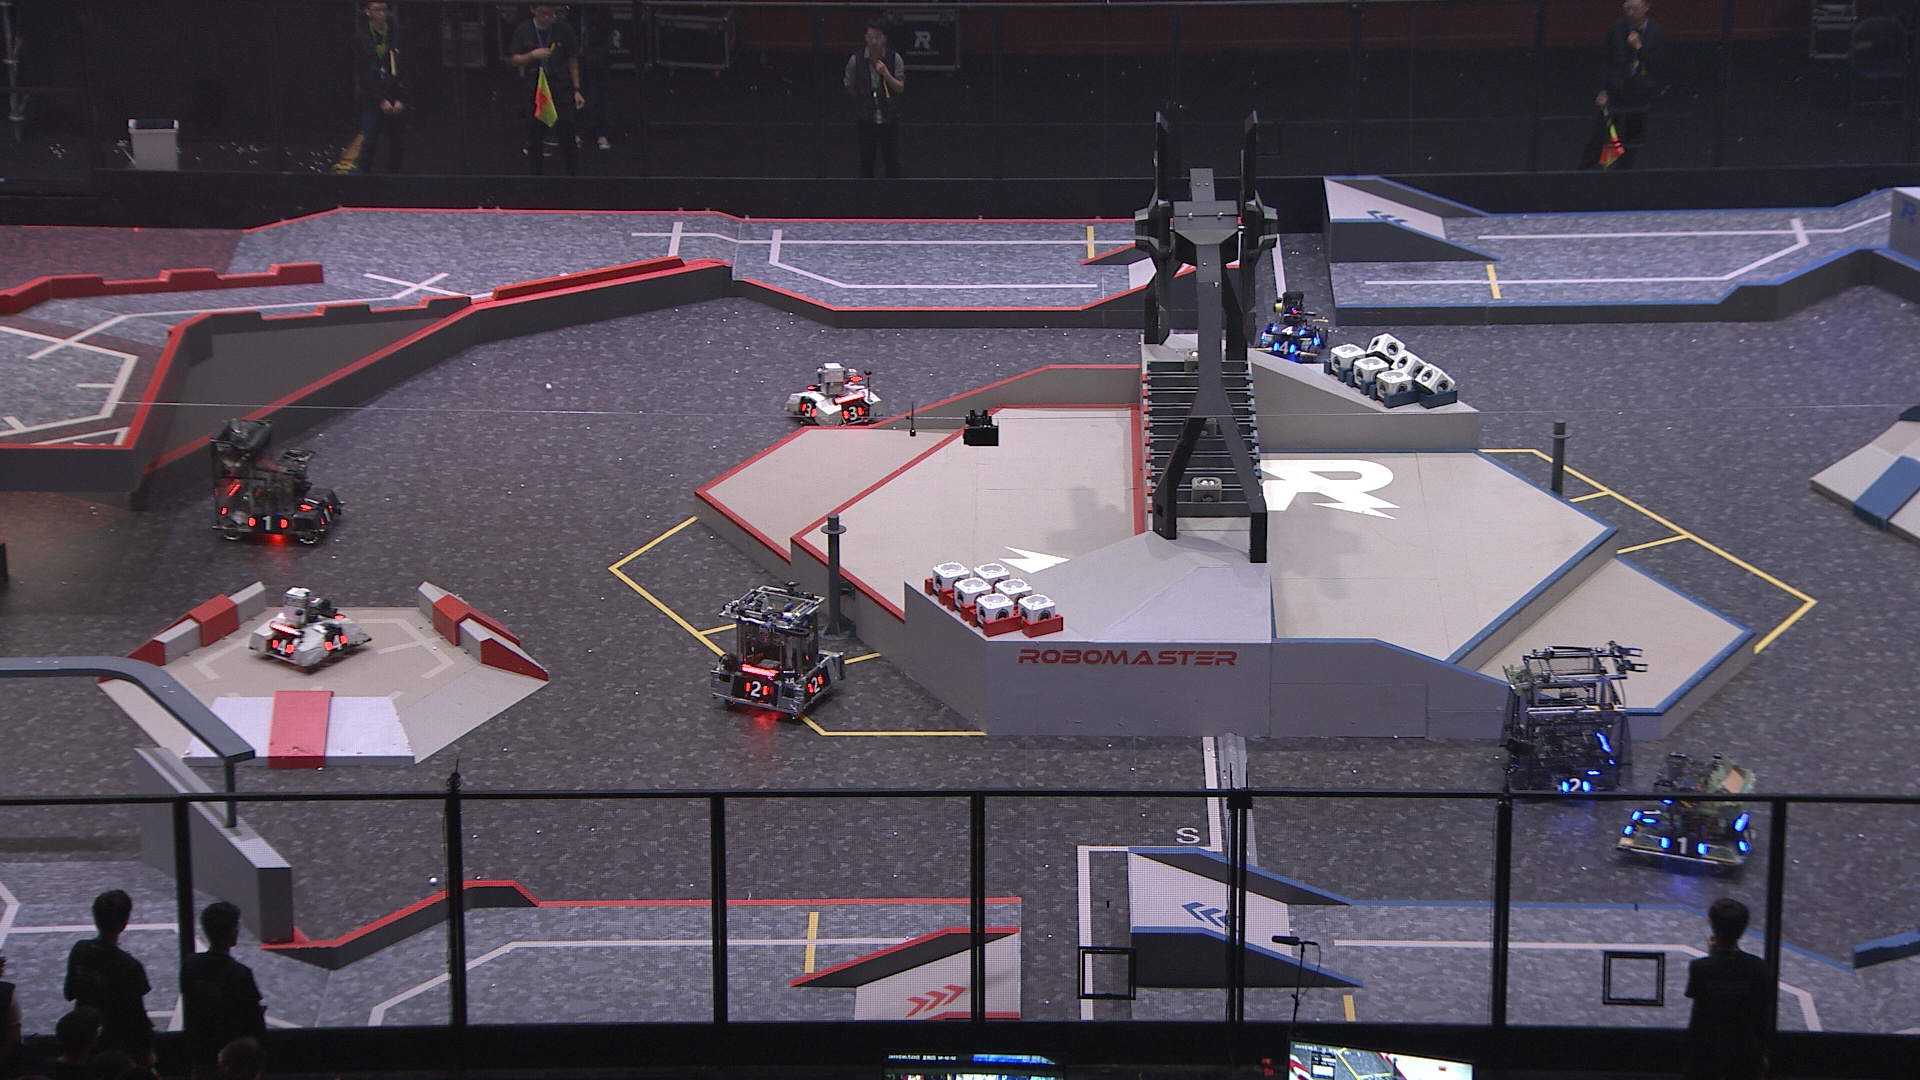armor: (1658, 831, 1705, 860), (244, 510, 290, 534), (319, 629, 352, 655), (1561, 774, 1596, 796), (837, 400, 868, 425), (1733, 828, 1759, 856), (313, 498, 338, 527), (266, 636, 295, 659), (1269, 322, 1309, 338), (1269, 339, 1300, 357), (1638, 802, 1662, 825), (803, 673, 827, 695), (299, 488, 320, 513), (745, 679, 770, 700), (798, 398, 818, 419), (1309, 328, 1325, 347)
car: (1499, 646, 1631, 800), (704, 584, 847, 725), (204, 413, 344, 549), (1615, 746, 1762, 874), (245, 585, 376, 674), (783, 357, 884, 434), (1247, 286, 1331, 368)
